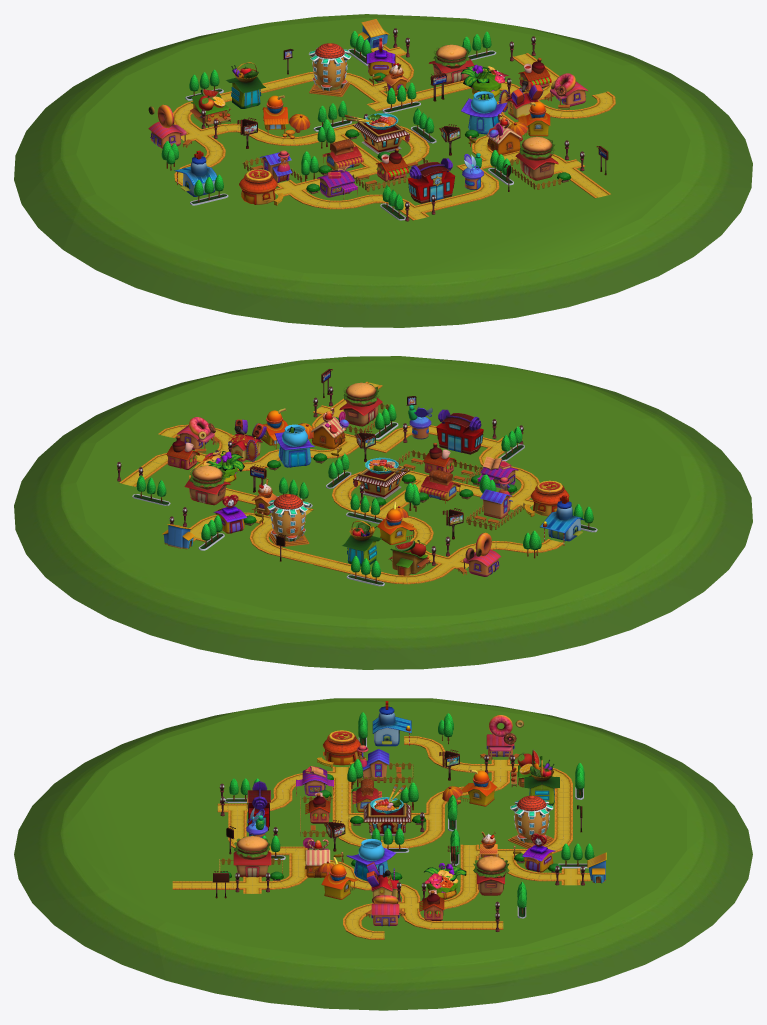
Rendered from Colorful city.fbx.
The picture shows the model from 3 angles, top to bottom: view 1: azimuth 30°, elevation 25°; view 2: azimuth 150°, elevation 25°; view 3: azimuth 270°, elevation 25°; orthographic projection.
Parts seen in each view (by area): view 1: Pod, Cartoon_shop_Cartoon_Shop; view 2: Pod, Cartoon_shop_Cartoon_Shop; view 3: Pod, Cartoon_shop_Cartoon_Shop.
Part boxes in pixels (x1,y1,x2,y2): Pod: (14,14,752,327); Cartoon_shop_Cartoon_Shop: (148,19,615,221); Pod: (14,356,752,669); Cartoon_shop_Cartoon_Shop: (117,369,597,586); Pod: (14,698,752,1010); Cartoon_shop_Cartoon_Shop: (172,701,606,939).
Size of the model in its own units: 4197 by 429 by 4197.
5 materials, 5 textured.
